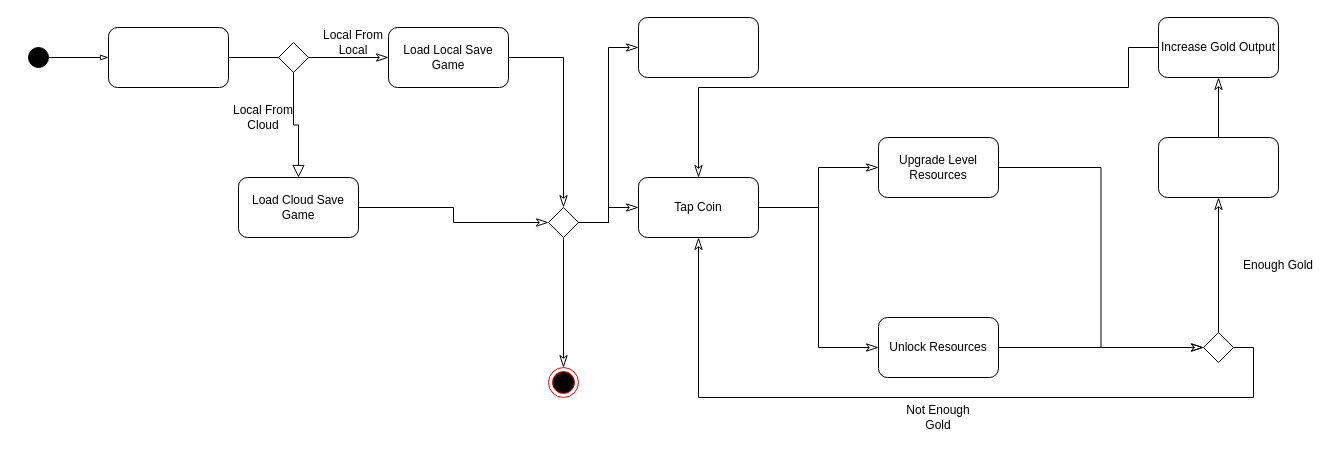
Image size: 1341x449. Some labels were removed from this diagram. The centre of each missing label's shape, as x and y in pixels:
"Auto Collect" belongs at pixel 698 47.
"Load Save Game" belongs at pixel 168 57.
"Substract Coin by Cash" belongs at pixel 1218 167.
